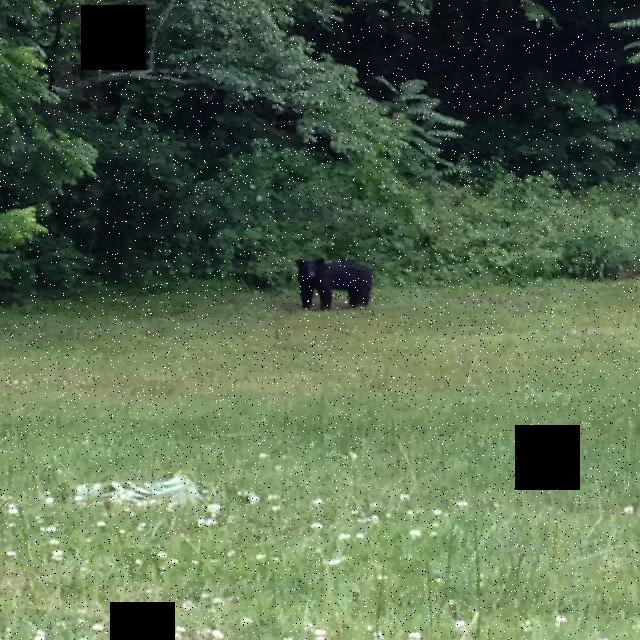Bear: (289, 253, 378, 311)
